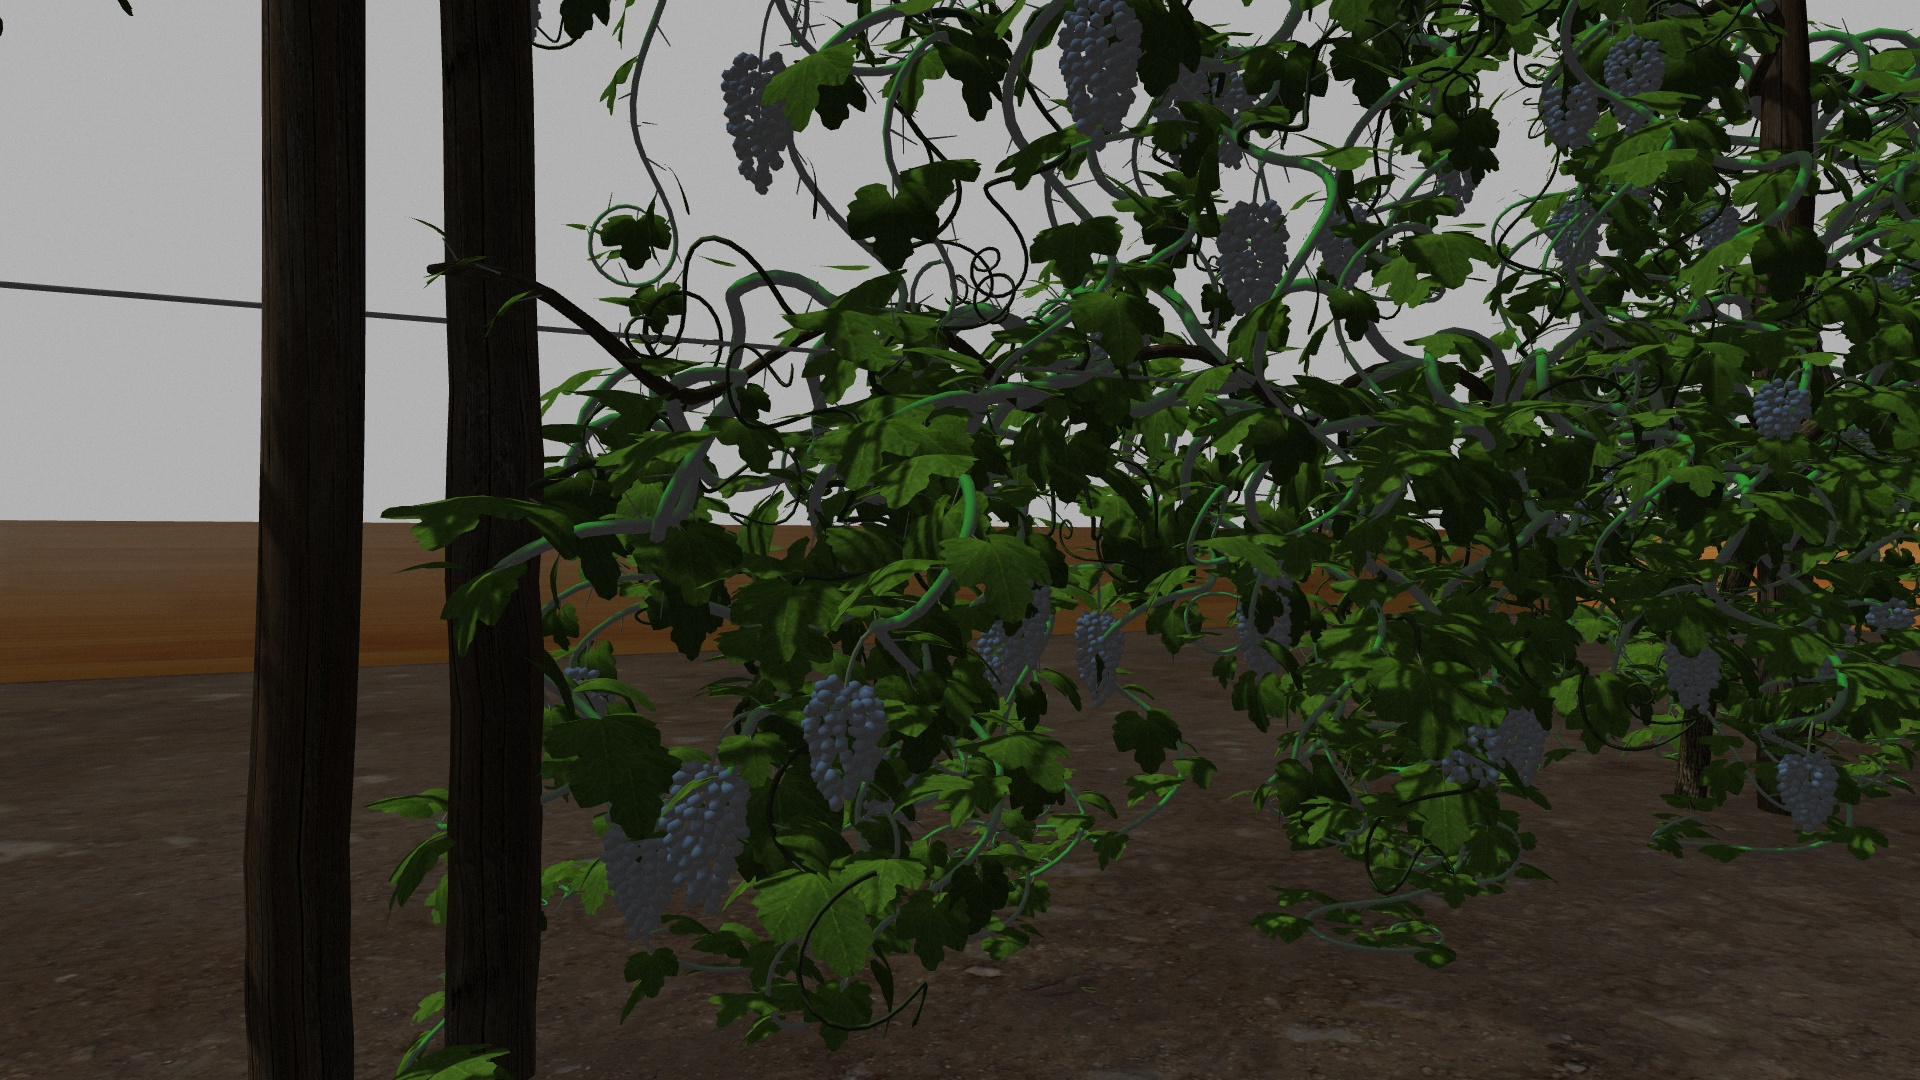grape: (800, 671, 894, 815), (661, 770, 752, 913), (1060, 8, 1145, 148), (721, 53, 804, 193), (1216, 198, 1292, 320), (603, 822, 679, 942), (978, 583, 1056, 694), (1236, 574, 1302, 680), (1604, 38, 1669, 129), (1778, 752, 1842, 840), (1313, 200, 1375, 285), (1665, 634, 1725, 720), (1540, 199, 1606, 272), (1536, 78, 1602, 150), (1497, 698, 1549, 781), (1077, 615, 1126, 703), (1443, 723, 1505, 790), (1754, 375, 1812, 440), (1867, 599, 1915, 641)
